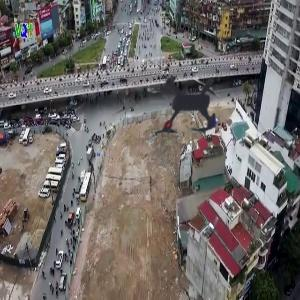drone: (108, 22, 269, 183)
